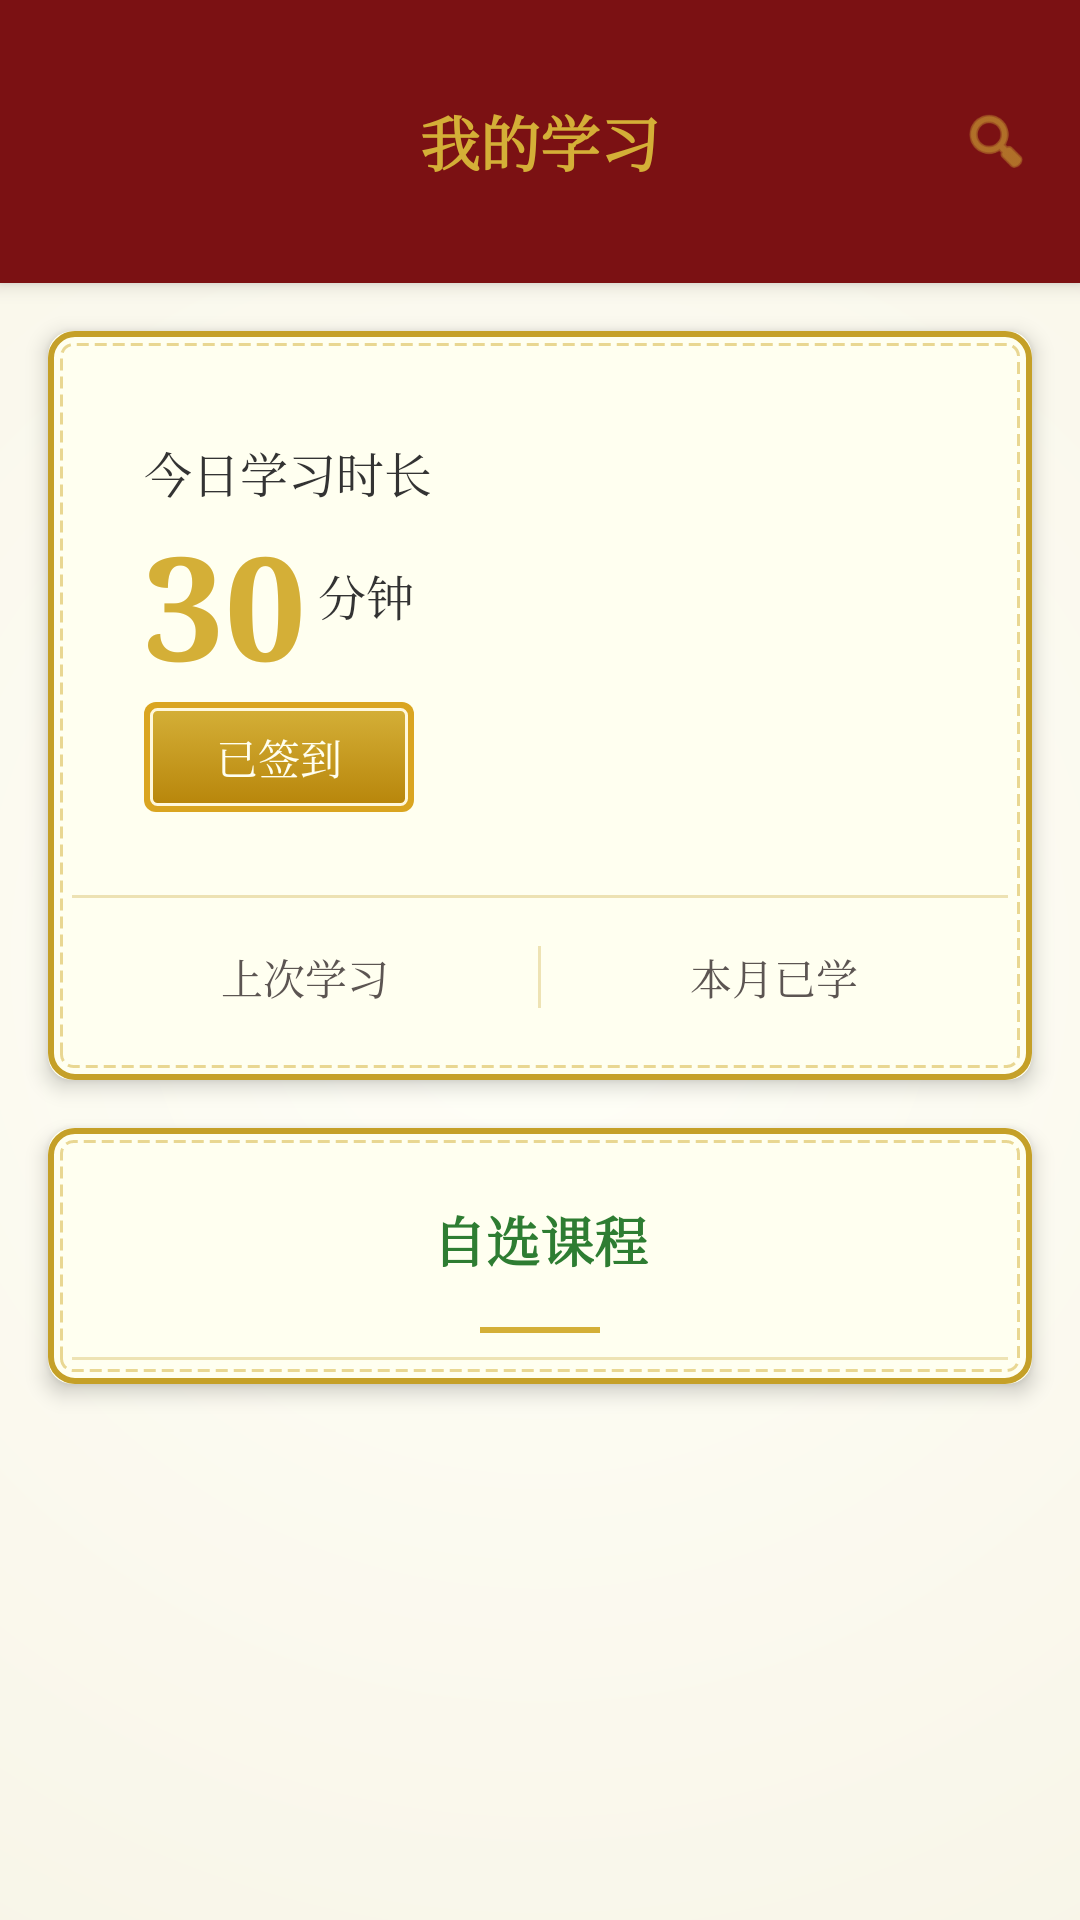

Where icons sit on this 1080 x 1920 app screen, as [left=x1, top=y1, right=x2, bottom=y2]:
search: [left=969, top=115, right=1022, bottom=168]
